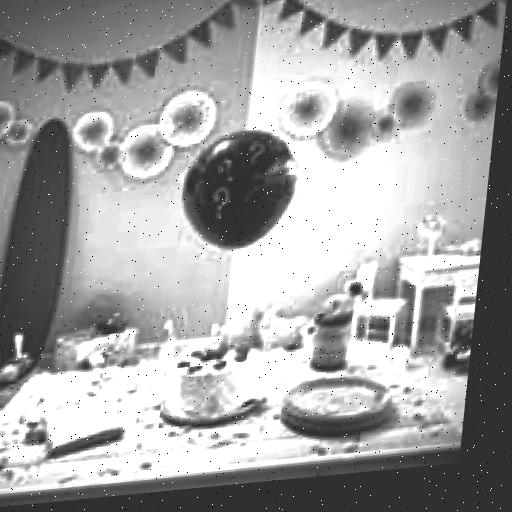balloon: (176, 125, 302, 255)
